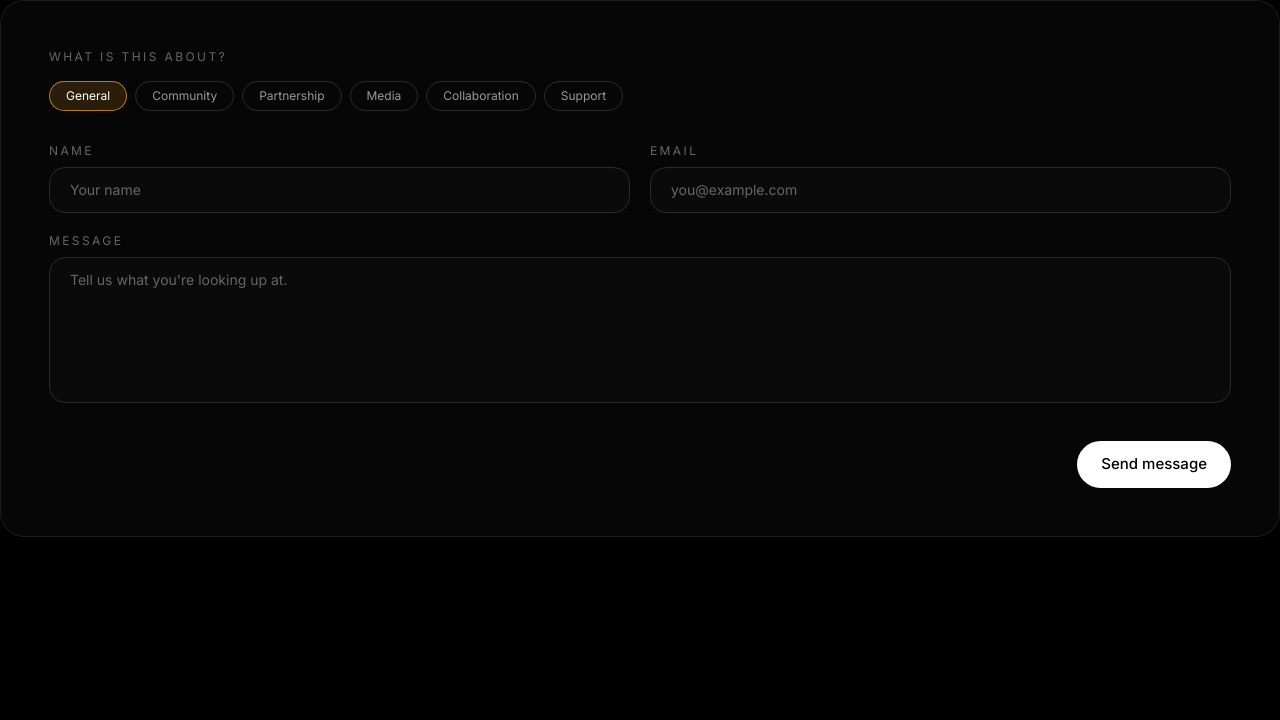
Scenario: ContactForm › carries the selected inquiry category with the submission
The width and height of the screenshot is (1280, 720).
Click the button "Partnership".
click(292, 96)  # box top-left (242, 81), bottom-right (342, 111)
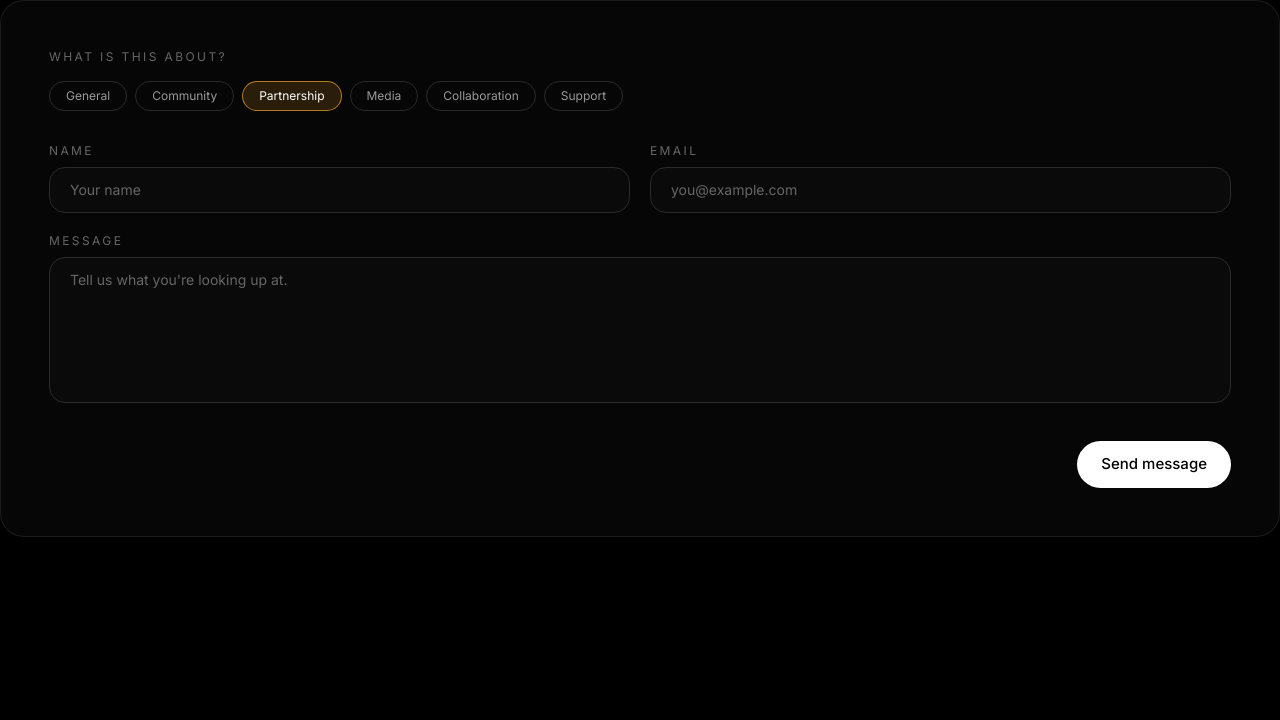
Type "Maya" into the field labelled "Name".
click(340, 190); type("Maya")  # box top-left (49, 167), bottom-right (630, 213)
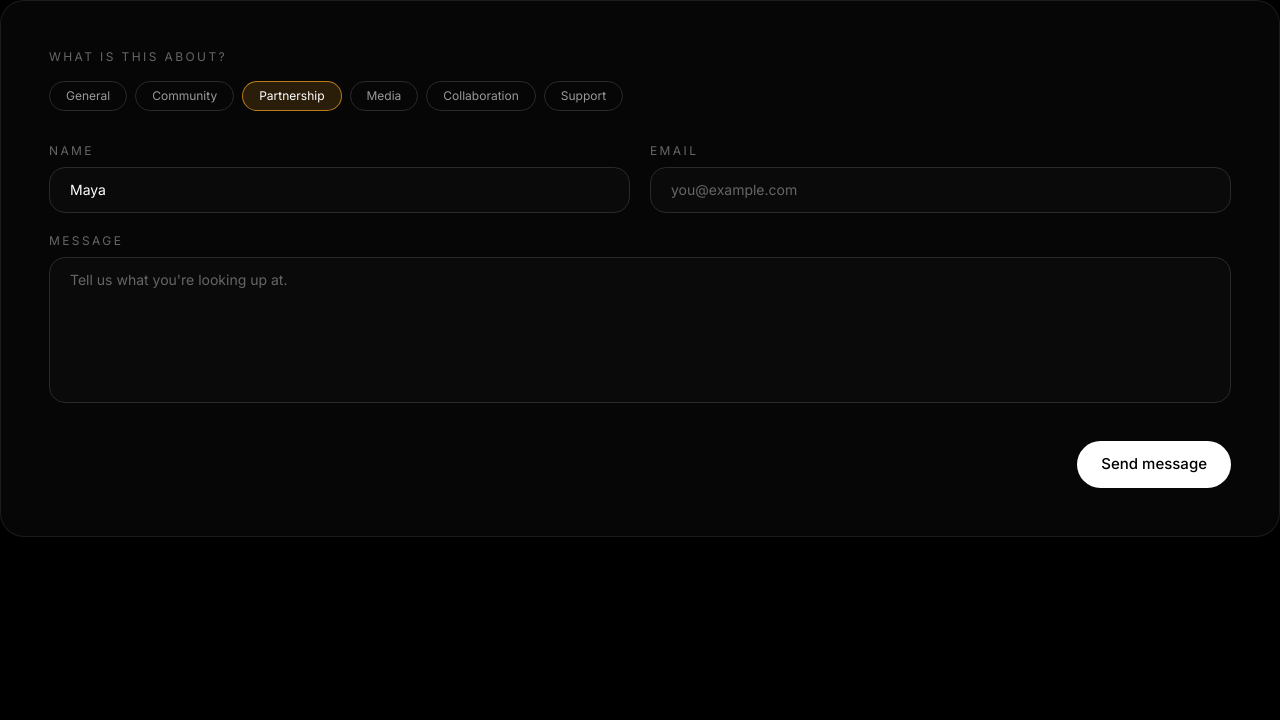
Type "maya@example.com" into the field labelled "Email".
click(940, 190); type("maya@example.com")  # box top-left (650, 167), bottom-right (1231, 213)
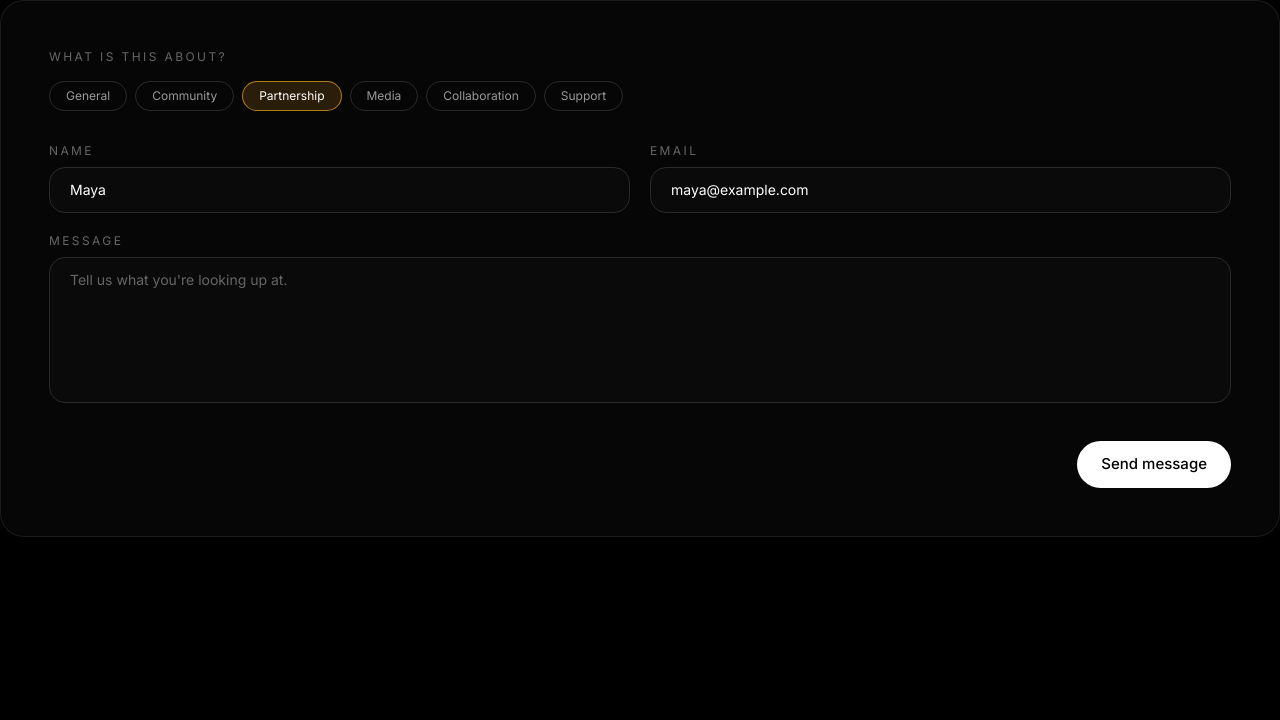
Type "Hello from the observatory." into the text box labelled "Message".
click(640, 330); type("Hello from the observatory.")  # box top-left (49, 257), bottom-right (1231, 403)
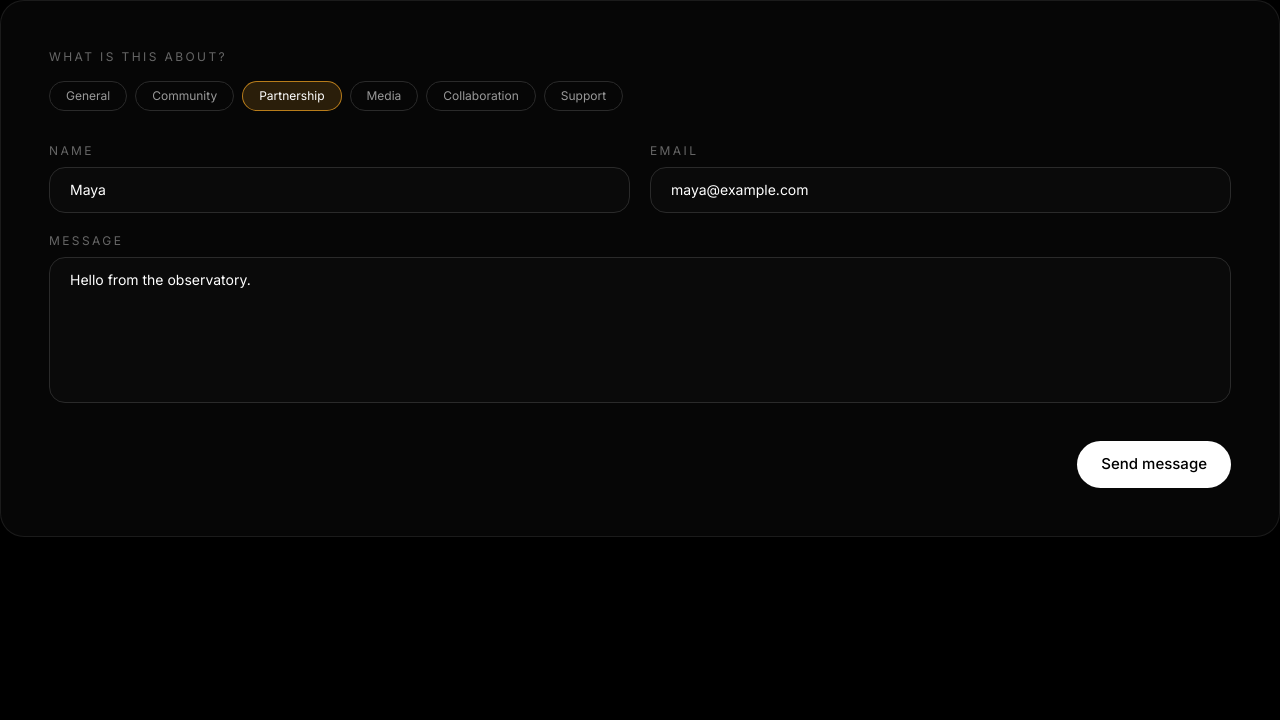
Click the button "Send message".
click(1154, 464)  # box top-left (1077, 441), bottom-right (1231, 488)
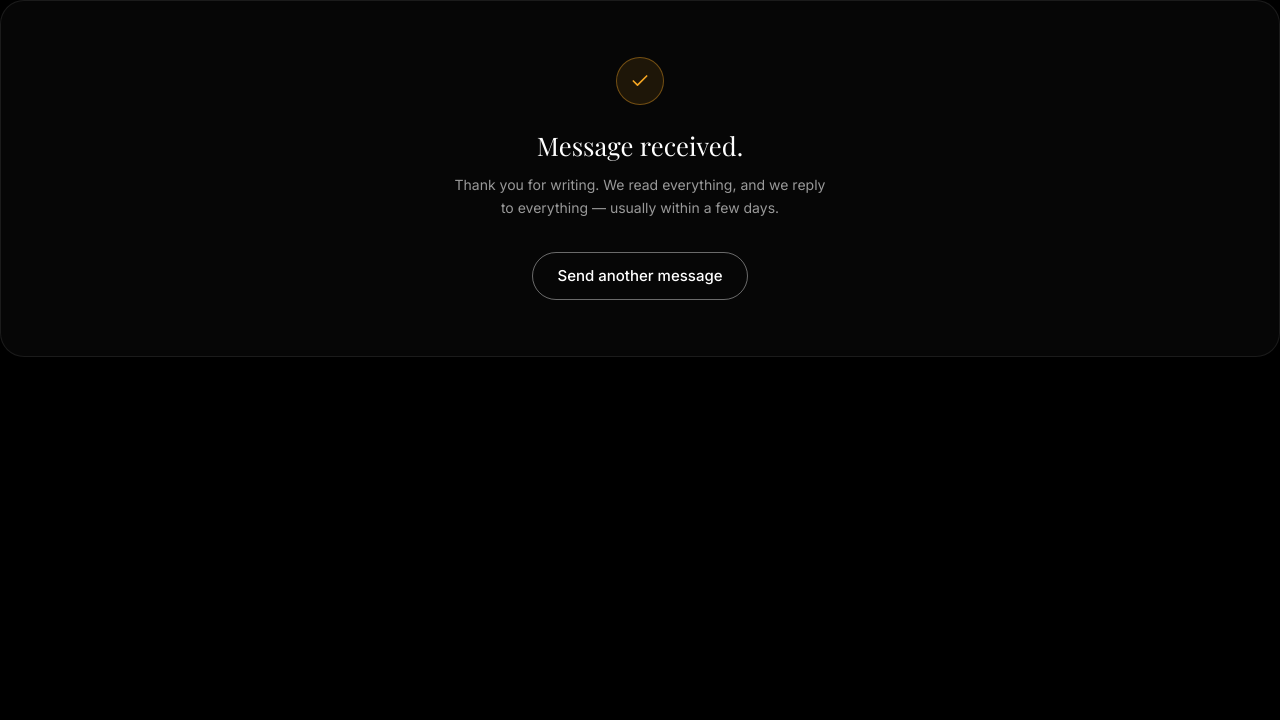
expect the heading "Message received." is shown: met, box top-left (537, 128), bottom-right (743, 162)
